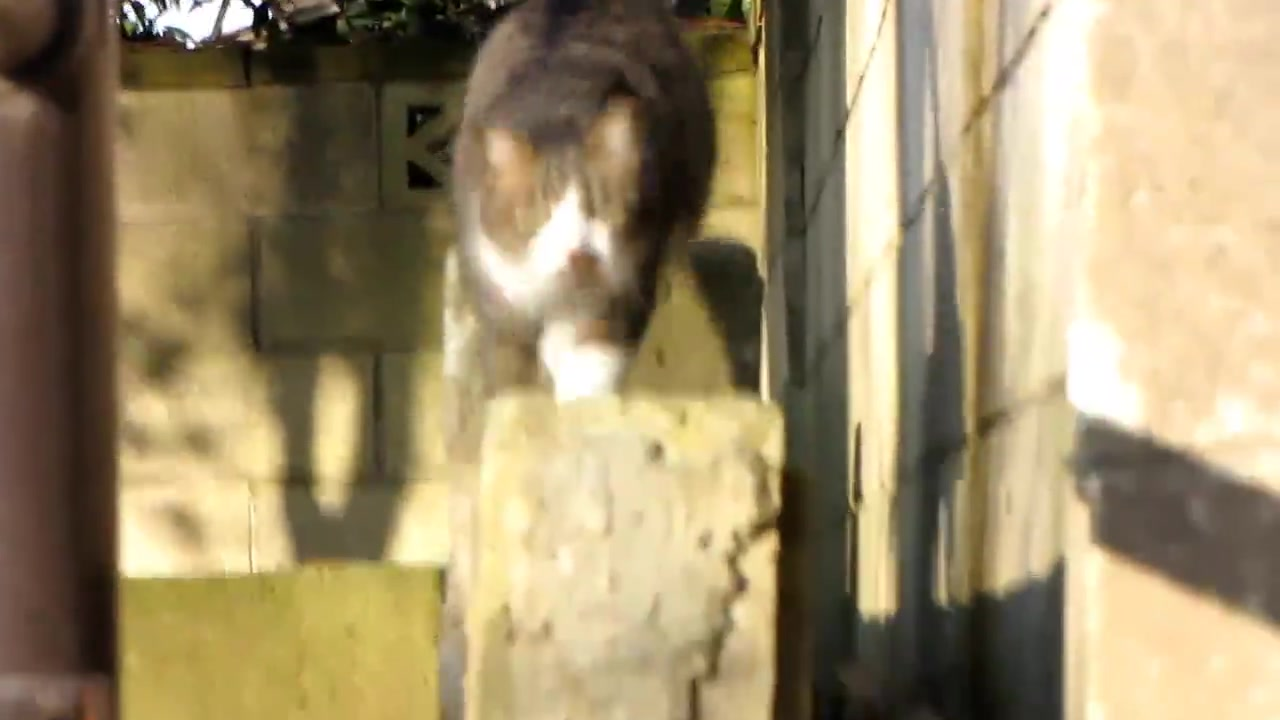cat: (439, 1, 719, 398)
